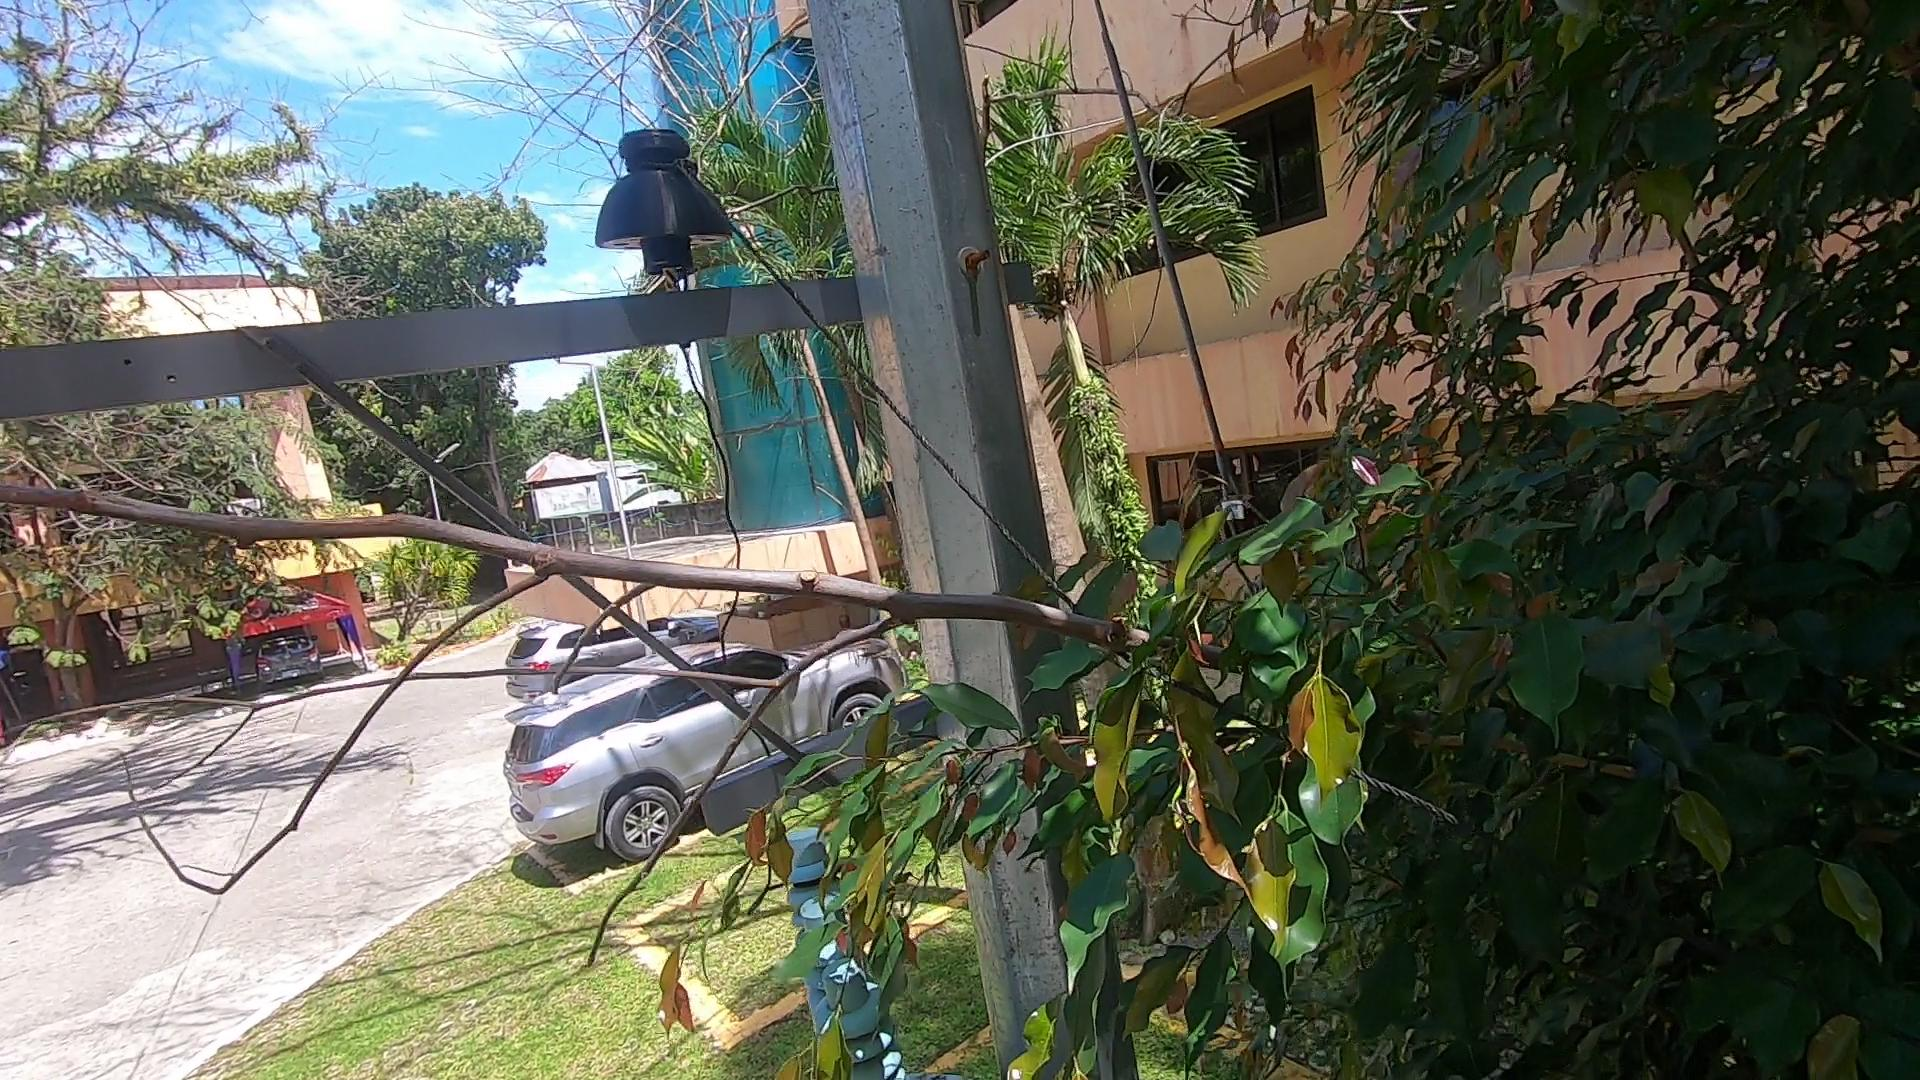tree branch: (5, 475, 1196, 967)
